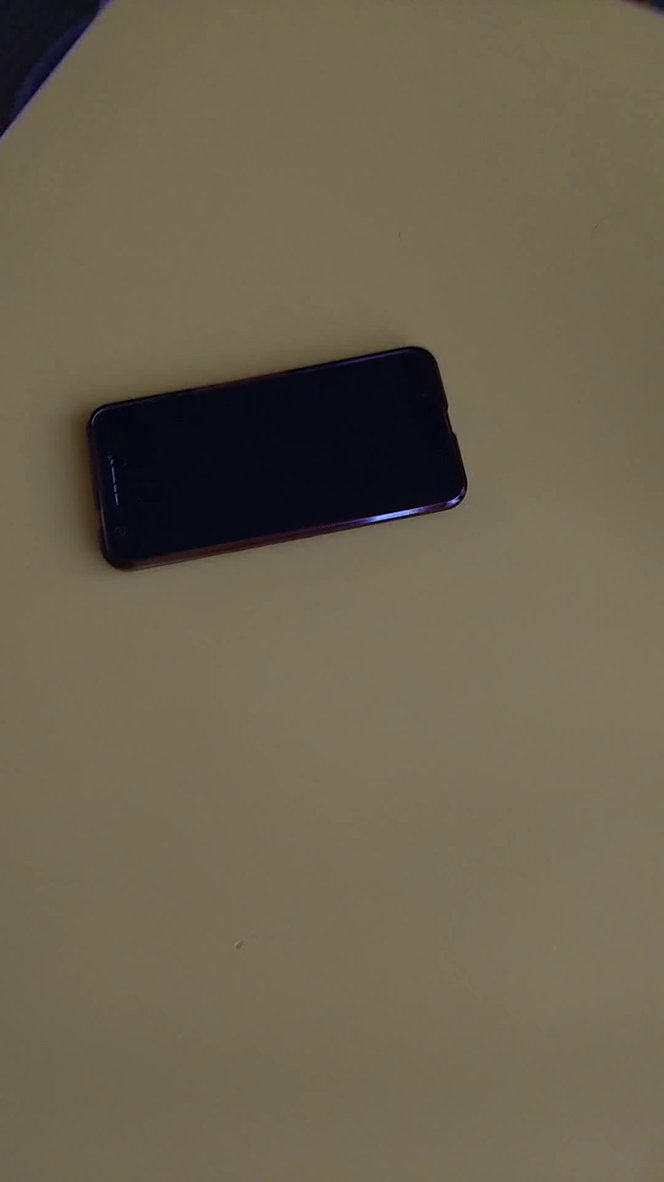phone: (77, 335, 488, 586)
